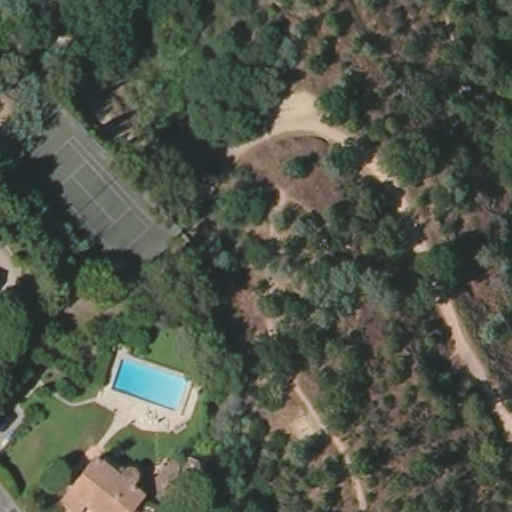pool: (114, 358, 192, 414)
